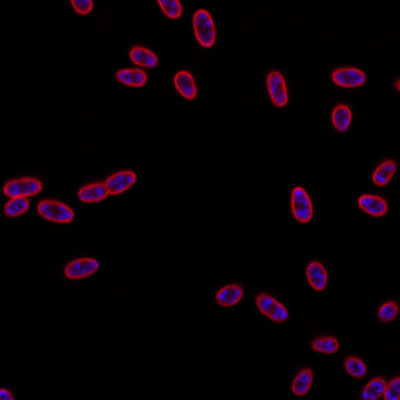MP265: (76, 170, 139, 203), (36, 198, 77, 224), (255, 292, 289, 323), (289, 184, 315, 224), (192, 8, 216, 49), (3, 176, 44, 200), (265, 69, 289, 108), (62, 256, 101, 279), (329, 66, 367, 89), (356, 193, 388, 218), (171, 71, 198, 100), (129, 44, 160, 69), (305, 259, 328, 292), (113, 66, 147, 88), (213, 284, 244, 308), (291, 366, 315, 396), (371, 158, 396, 186), (342, 354, 367, 381), (3, 195, 31, 218), (375, 300, 400, 323)
Oblique: (330, 103, 353, 133), (309, 335, 339, 355)
